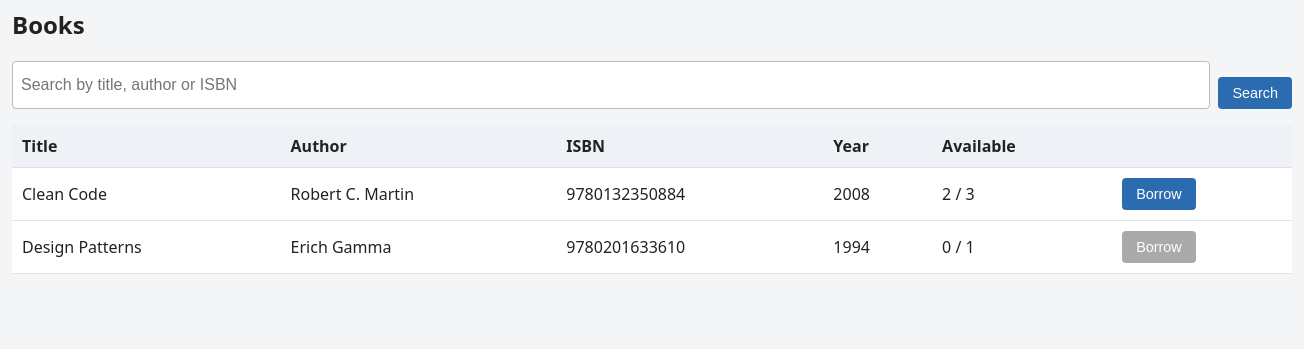
Test: member can borrow an available book
The width and height of the screenshot is (1304, 349).
Click the button "Borrow" in the row of "Clean Code" at [1159, 194], box [1122,178,1196,210]
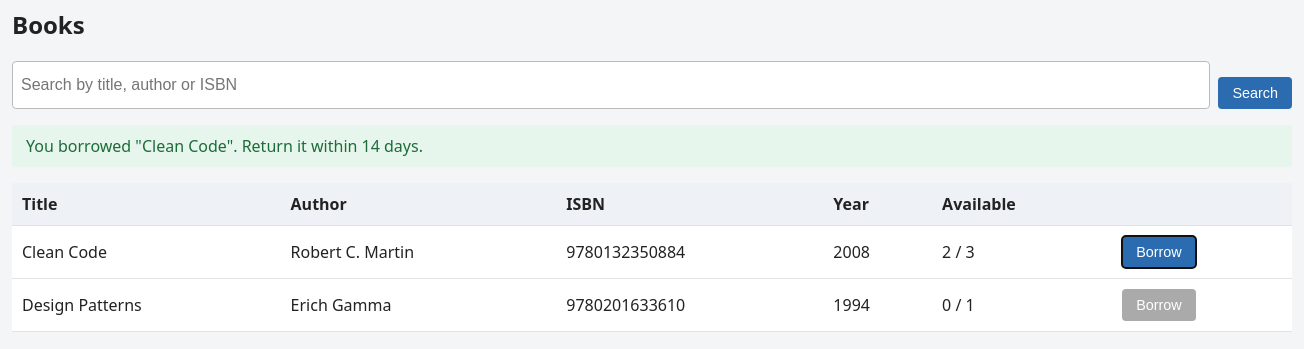
Check: the message shows "You borrowed \"Clean Code\"", box [26,135,423,157]
